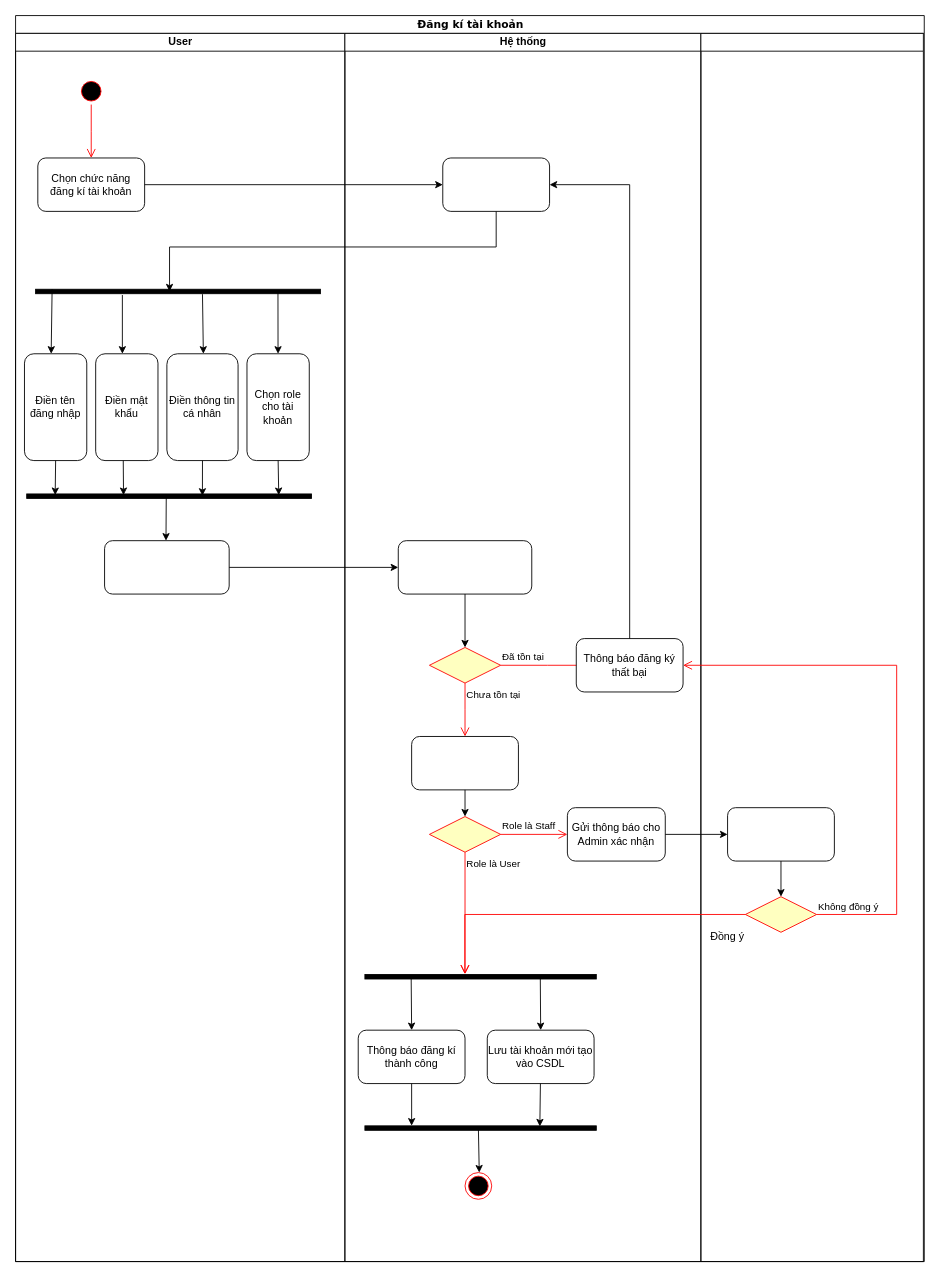
This 940x1277 diagram has some shape labels left out. Each missing label, with the box of its shape:
Admin: (700, 32, 923, 1262)
Gửi đăng ký tài khoản: (104, 540, 229, 594)
Hiển thị form đăng kí tài khoản: (442, 157, 550, 211)
Kiểm tra Role lựa chọn: (411, 736, 518, 790)
Kiểm tra tên đăng nhập đã tồn tại: (397, 540, 532, 594)
Thực hiện xác nhận: (727, 807, 834, 861)
